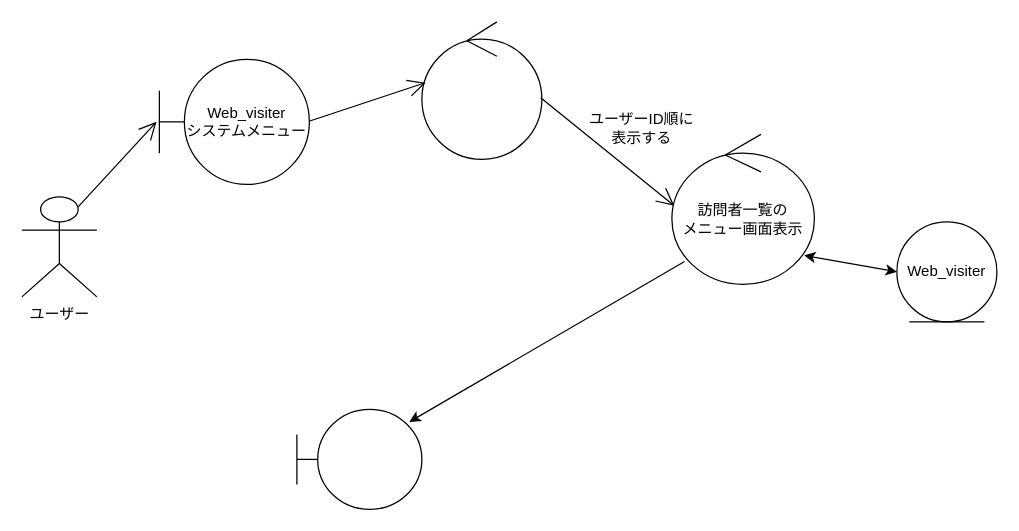
This 1019x531 diagram has some shape labels left out. Here are the shapes that lost their labels. From the top down, the centre of each, then its label:
(x=481, y=90): 訪問者一覧の表示メニューを選択
(x=359, y=458): 訪問者一覧の 画面
